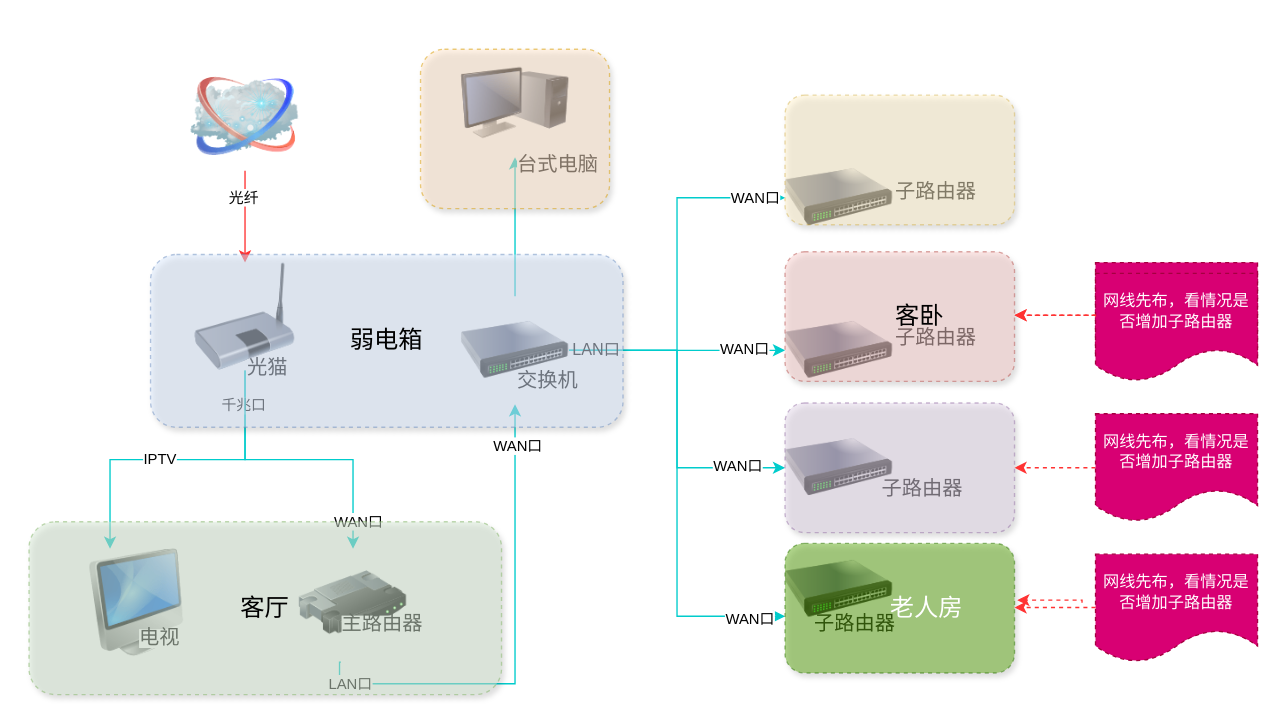
The diagram is 1281 pixels wide and 728 high, and some of its shapes have lost their labels. The shapes that lost their labels are listed below. From the top down, each one's centre as x and y in pixels, then its label:
[244,116]: 网络
[516,130]: 阳台
[900,161]: 主卧
[900,469]: 儿童房
